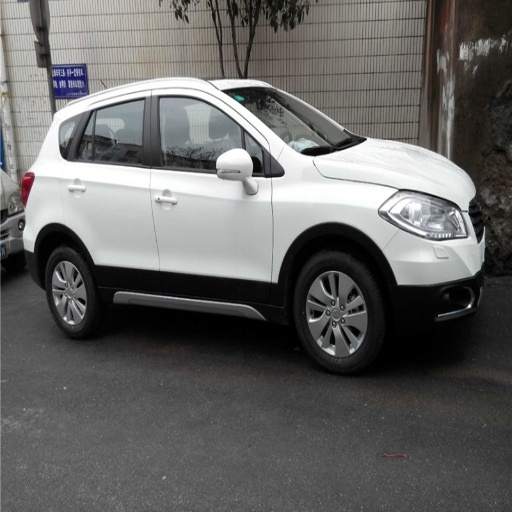back_right_door: (63, 89, 159, 295)
front_bumper: (383, 208, 486, 327)
front_right_door: (151, 89, 273, 304)
front_right_light: (380, 191, 469, 240)
